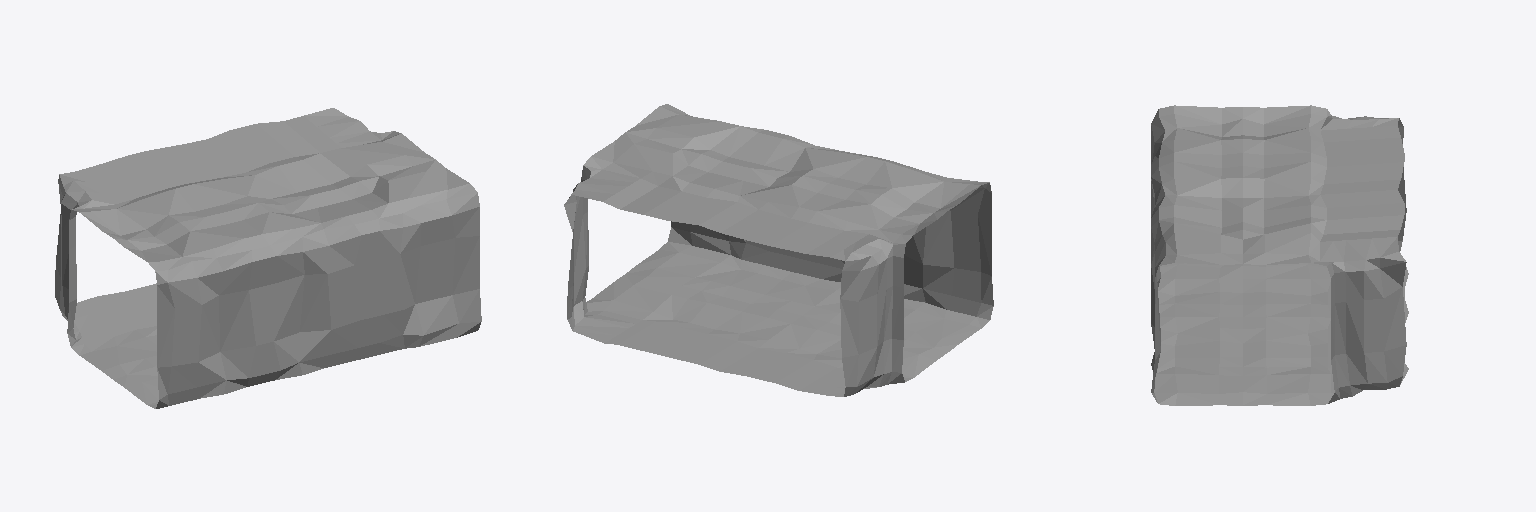
The model's file is Sharft_Straight_Open.obj.
The picture shows the model from 3 angles: view 1: azimuth 30°, elevation 25°; view 2: azimuth 150°, elevation 25°; view 3: azimuth 270°, elevation 25°; orthographic projection.
Parts seen in each view (by area): view 1: Sharft_Straight_Open; view 2: Sharft_Straight_Open; view 3: Sharft_Straight_Open.
Part boxes in pixels (x1,y1,x2,y2): Sharft_Straight_Open: (55, 108, 481, 408); Sharft_Straight_Open: (564, 104, 993, 396); Sharft_Straight_Open: (1151, 105, 1408, 405).
Size of the model in its own units: 5.98 by 2.54 by 4.14.